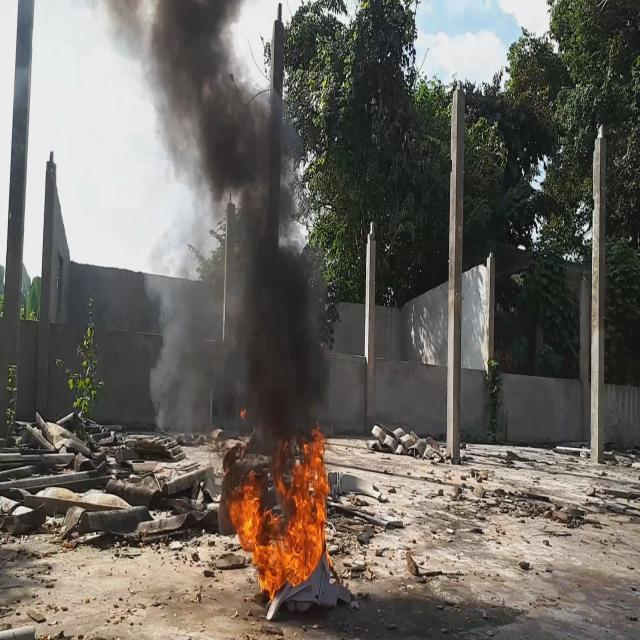Fire: (227, 427, 330, 597)
Smoke: (100, 0, 326, 530)
